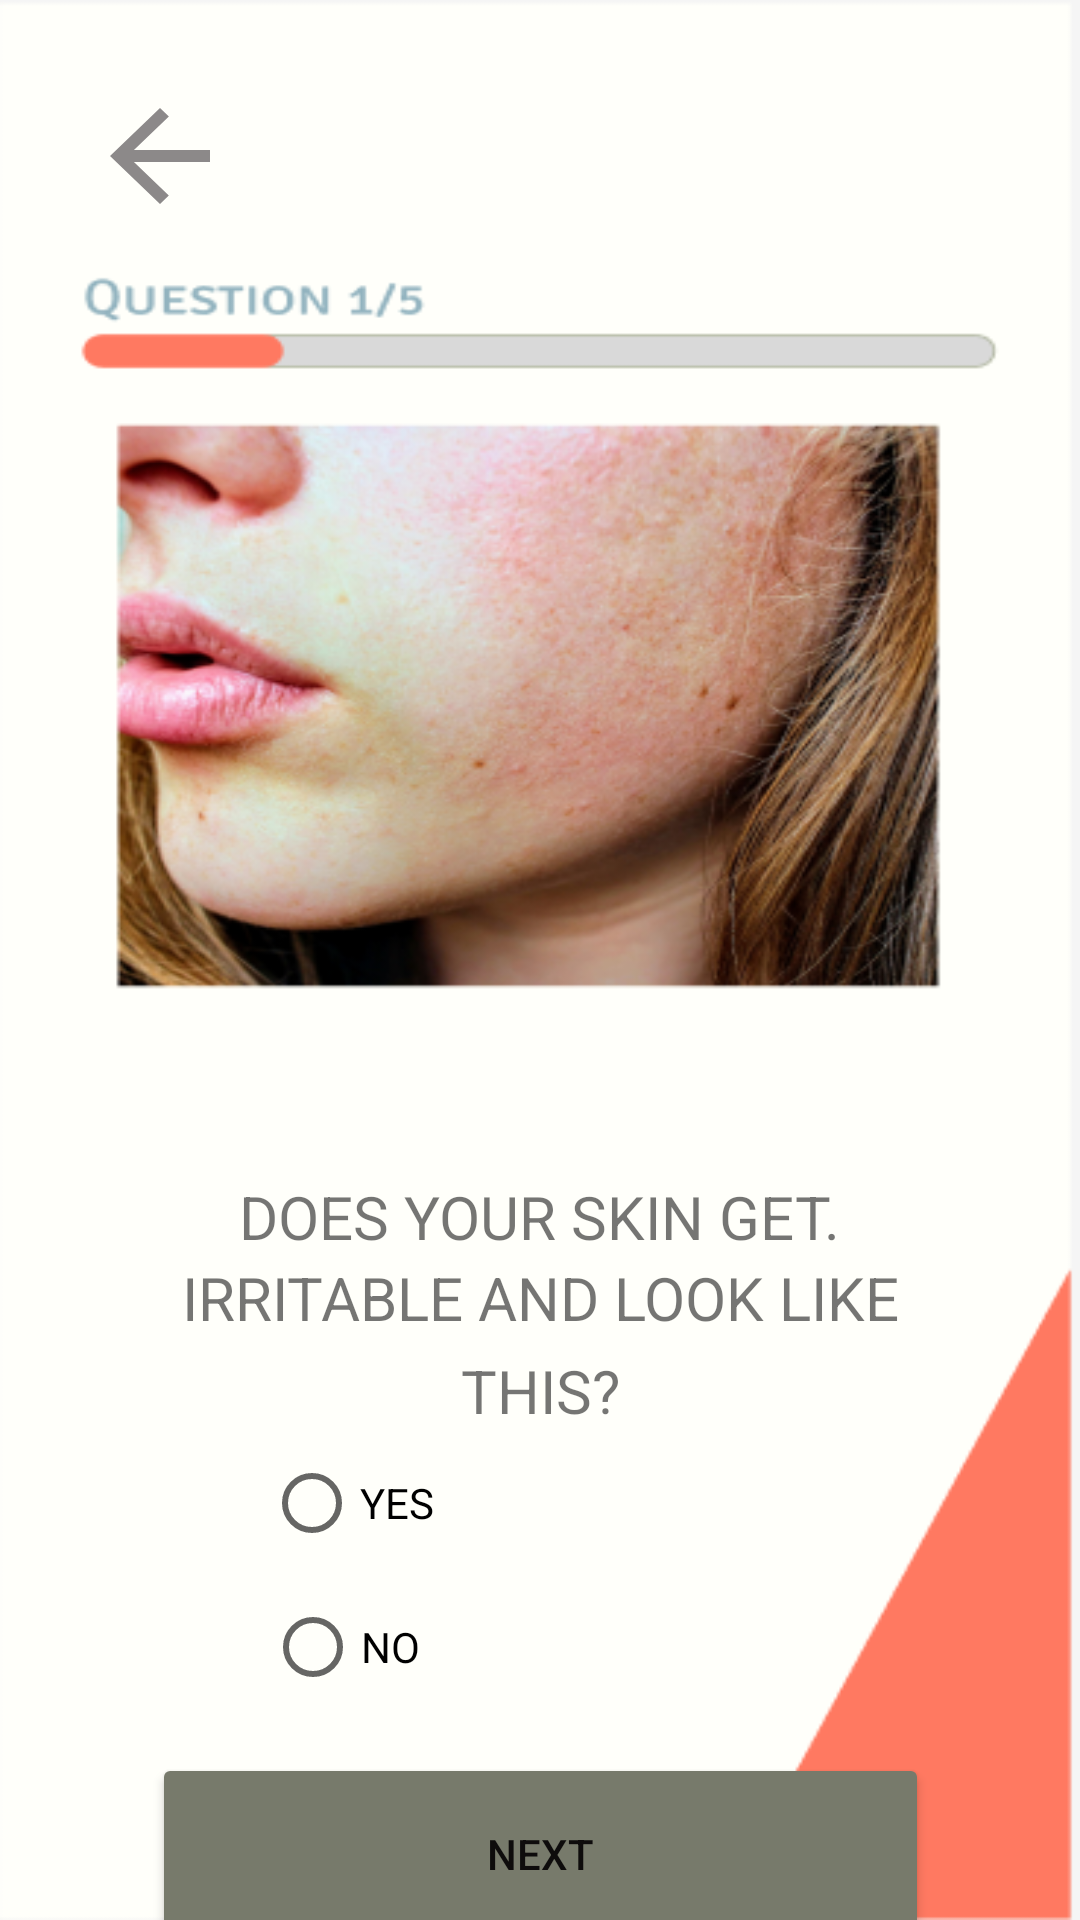

Screen size 1080 × 1920. Icon name, then its center in pixels as [x,y]:
arrow back: [160,156]
